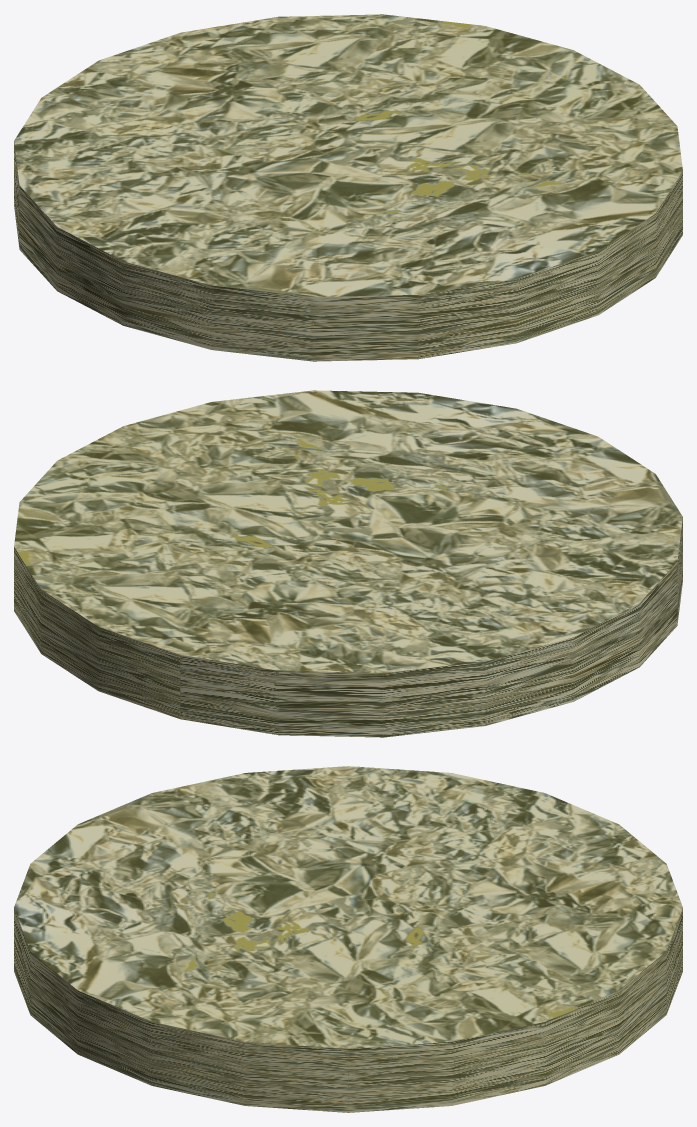
The model's file is coinofchoc.fbx.
3 renders of one model, top to bottom at view 1: azimuth 30°, elevation 25°; view 2: azimuth 150°, elevation 25°; view 3: azimuth 270°, elevation 25°, orthographic.
Parts seen in each view (by area): view 1: pCylinder1; view 2: pCylinder1; view 3: pCylinder1.
Boxes of the visible parts, <box> form: pCylinder1: <box>14,14,682,361</box>; pCylinder1: <box>14,390,682,737</box>; pCylinder1: <box>14,766,682,1112</box>.
Bounding box in the file's own units: 2 × 0.2114 × 2.
